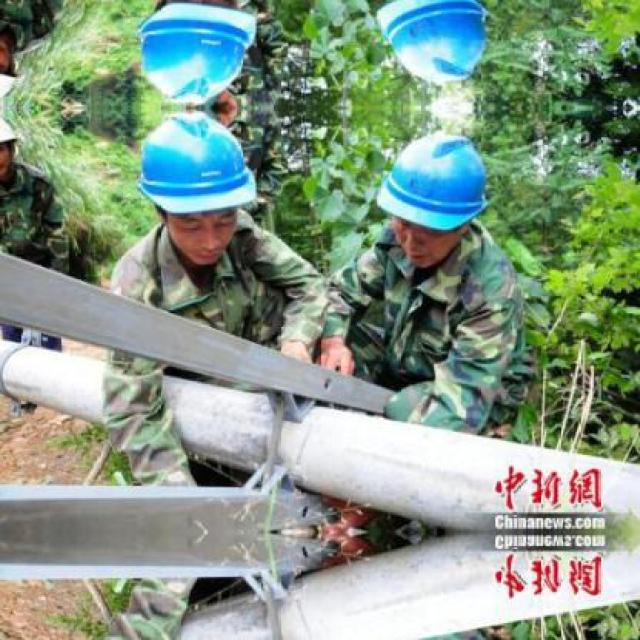helmet: (127, 106, 264, 272), (372, 119, 502, 271), (126, 0, 264, 109), (372, 0, 503, 97)
